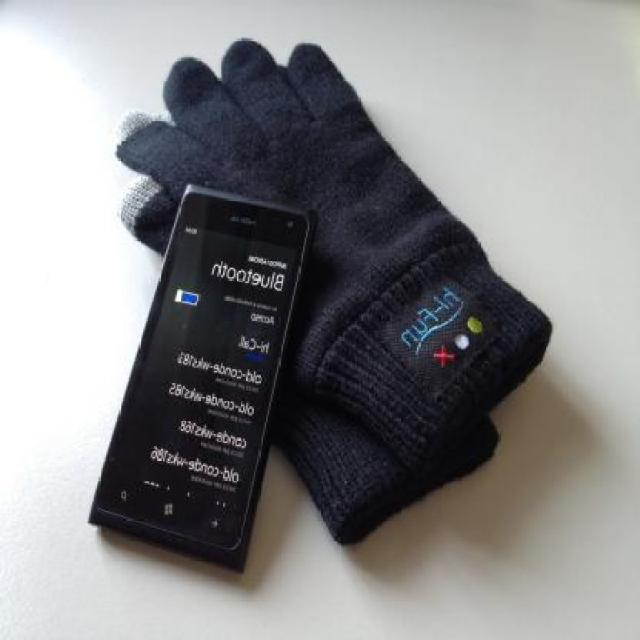phone: (87, 180, 318, 571)
